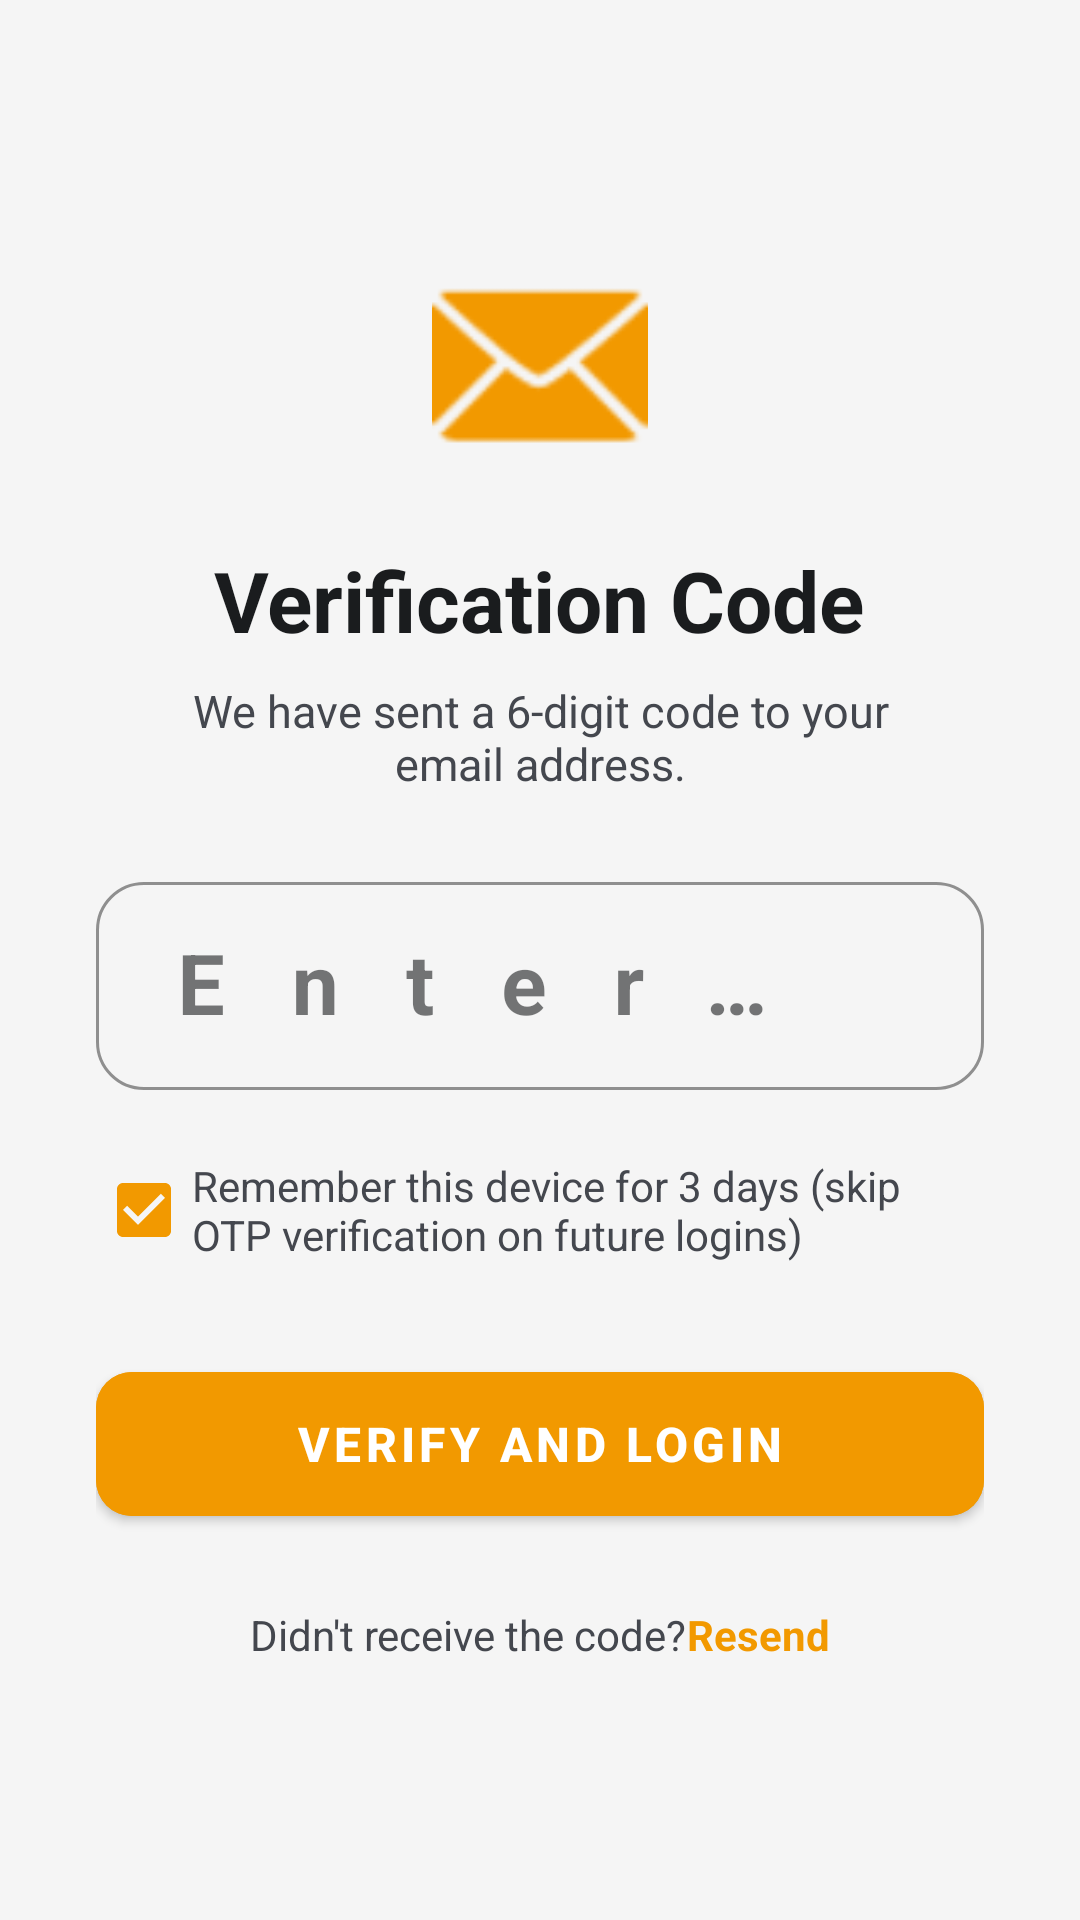

Screen size 1080w x 1920h. Icon name, then its center in pixels as (x,y):
email: (540,366)
